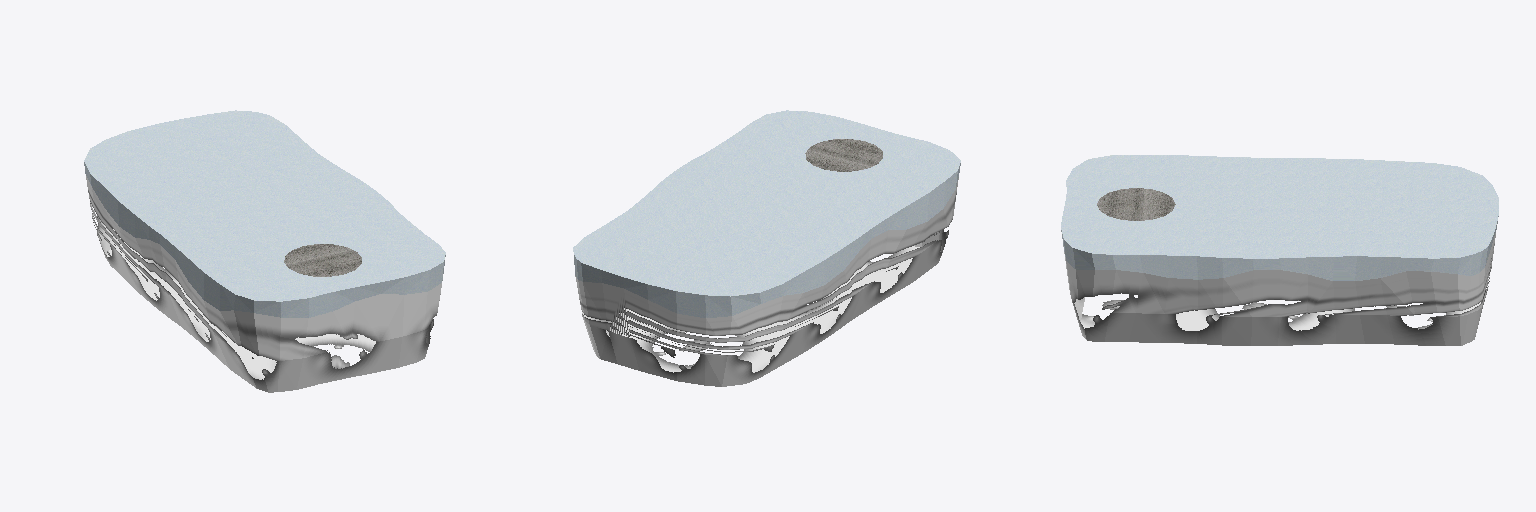
3 views of the same model, side by side, from view 1: azimuth 30°, elevation 25°; view 2: azimuth 150°, elevation 25°; view 3: azimuth 270°, elevation 25° (orthographic).
Parts seen in each view (by area): view 1: Plane.003, Plane.000_Plane.002, Plane.001_Plane.007; view 2: Plane.003, Plane.000_Plane.002, Plane.001_Plane.007; view 3: Plane.003, Plane.000_Plane.002, Plane.001_Plane.007.
Part boxes in pixels (x1,y1,x2,y2): Plane.003: (84,110,445,317); Plane.000_Plane.002: (86,176,441,392); Plane.001_Plane.007: (284,244,361,276); Plane.003: (573,110,960,317); Plane.000_Plane.002: (575,178,958,386); Plane.001_Plane.007: (805,139,882,171); Plane.003: (1061,155,1498,280); Plane.000_Plane.002: (1063,233,1495,345); Plane.001_Plane.007: (1097,188,1175,220).
Bounding box in the file's own units: 1439 × 635 × 2564.
3 materials, 3 textured.